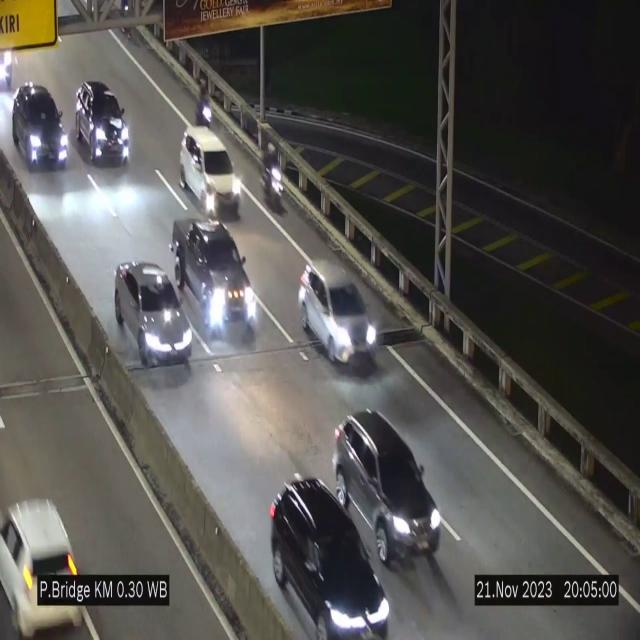Car: (268, 470, 387, 640), (332, 402, 446, 562), (0, 478, 92, 640), (172, 213, 260, 343), (298, 261, 378, 363), (115, 263, 193, 367), (73, 80, 135, 175), (12, 82, 72, 174), (179, 126, 241, 215)
Motorcycle: (262, 139, 284, 209), (192, 76, 214, 122), (114, 0, 134, 42)
